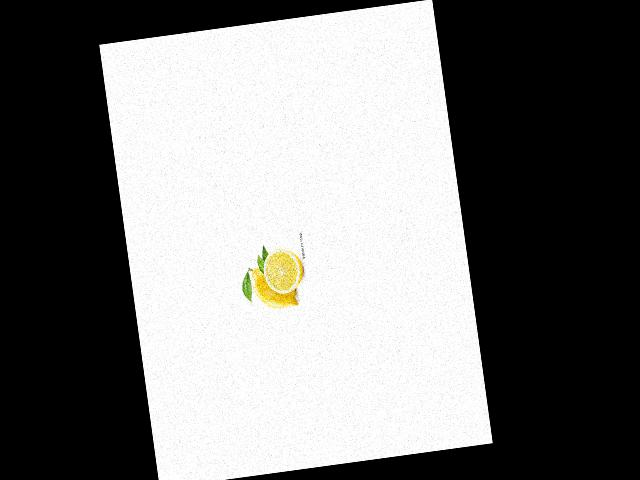lemon: (247, 259, 301, 320)
